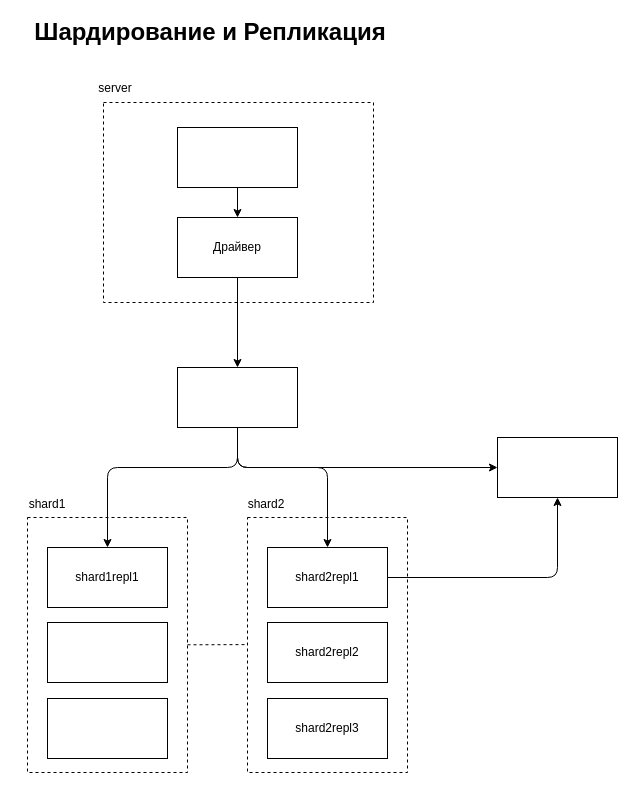
The diagram is 635 pixels wide and 790 high, and some of its shapes have lost their labels. The box of each missing label's shape, as (x1, y1, x2, y2) in pixels:
configSrv: (496, 436, 618, 498)
mongos_router: (176, 366, 298, 428)
Приложение: (176, 126, 298, 188)
